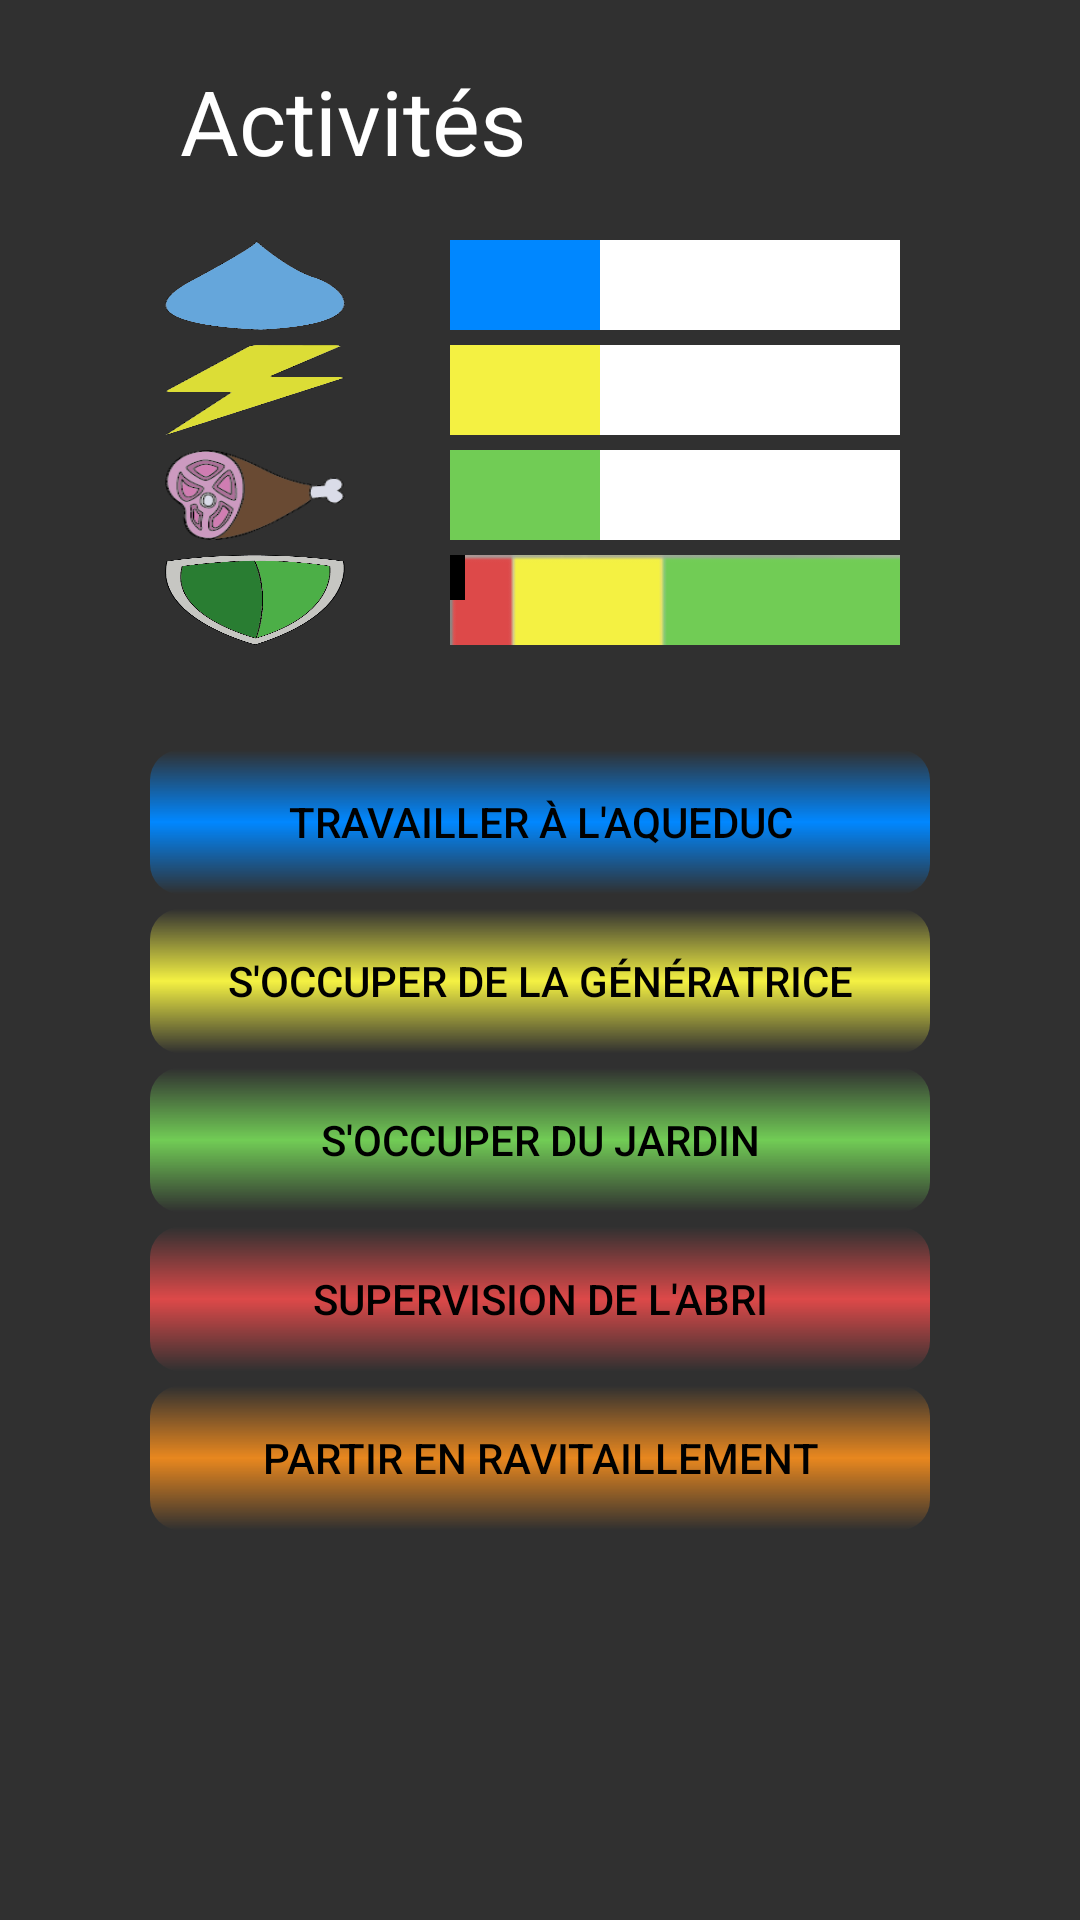

Point at icon controls on the screen. Image size 1080w x 1920h, points as point (x, y).
bouclier: point (255, 600)
eau: point (255, 286)
eclair: point (254, 390)
jambon: point (254, 495)
